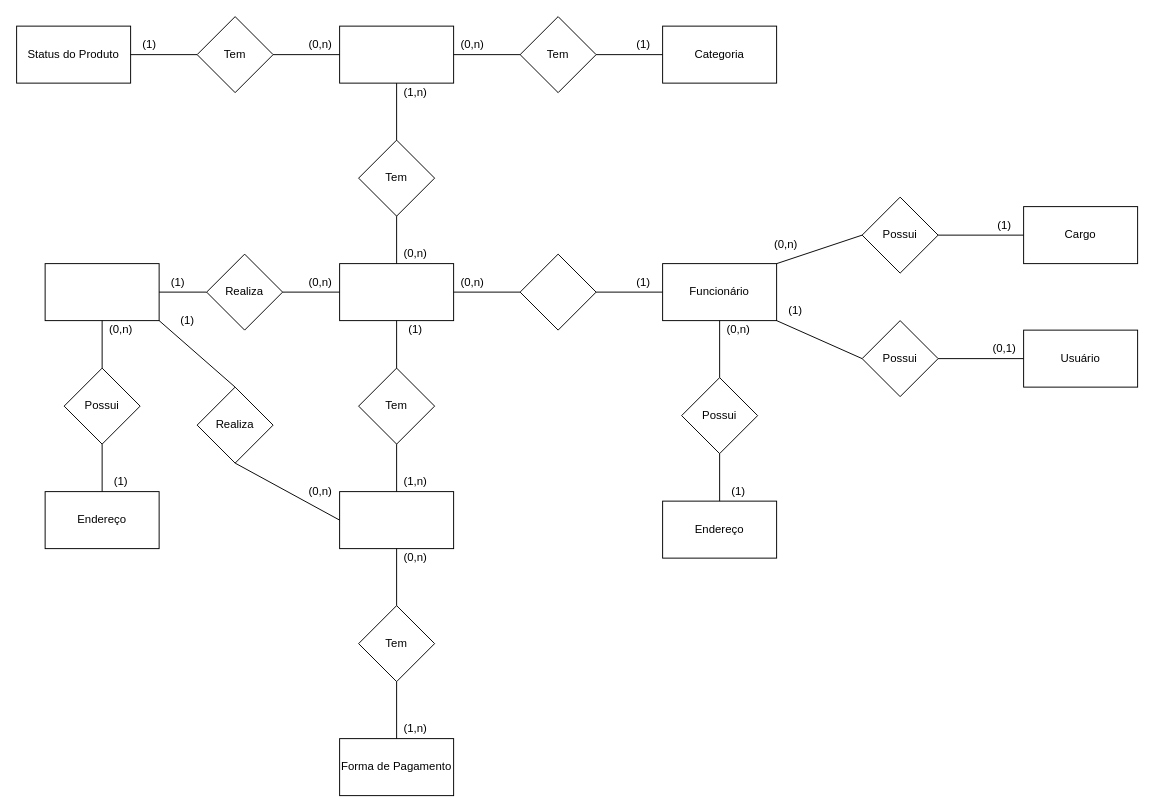
The diagram is 1154 pixels wide and 812 high, and some of its shapes have lost their labels. Here are the shapes that lost their labels. From the top down, the centre of each, then its label:
[396,54]: Produto
[101,292]: Cliente
[396,292]: Compra
[557,291]: Conclui
[396,520]: Pagamento
